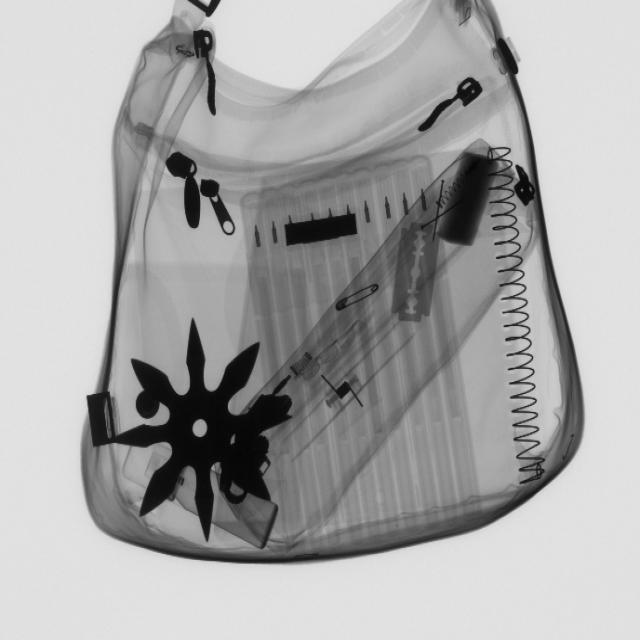BLADE: (387, 209, 444, 332)
SHURIKEN: (114, 316, 286, 545)
